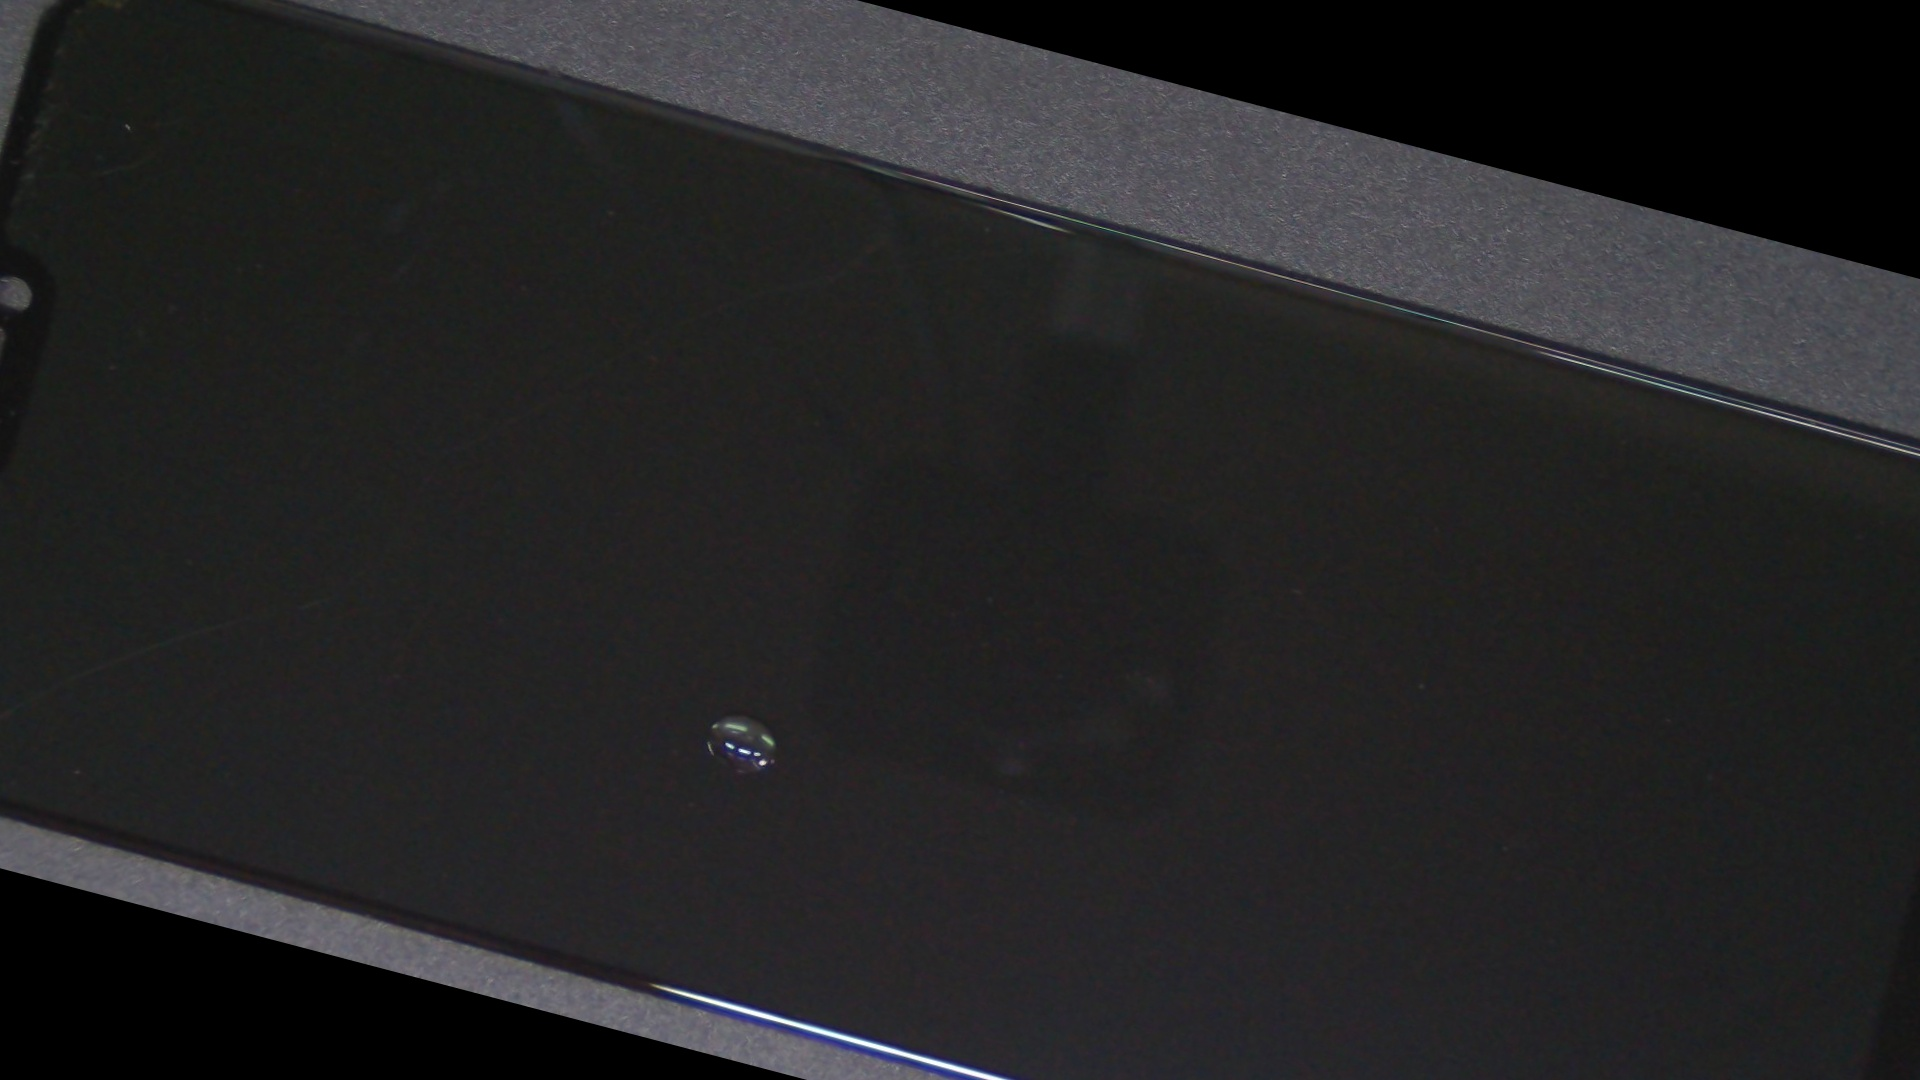oil: (216, 249, 1267, 1080)
